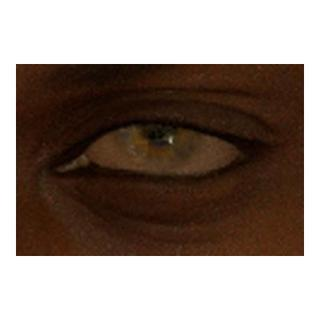pupil: (143, 110, 177, 143)
